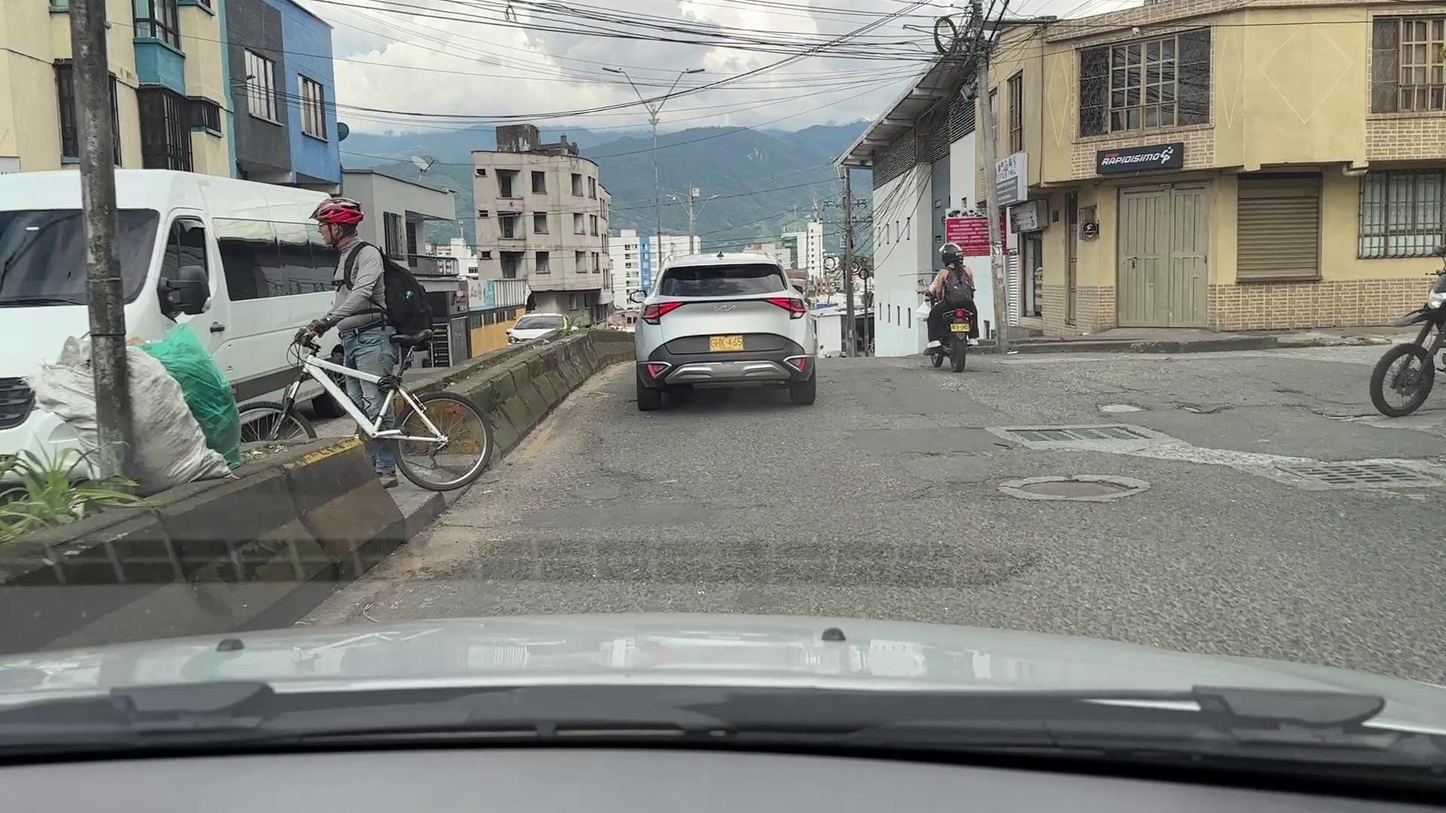bache: (1097, 401, 1151, 412), (1316, 412, 1381, 421), (1183, 406, 1233, 414)
registro: (1020, 481, 1128, 497)
rejilla: (1278, 463, 1437, 490), (1006, 426, 1151, 442)
